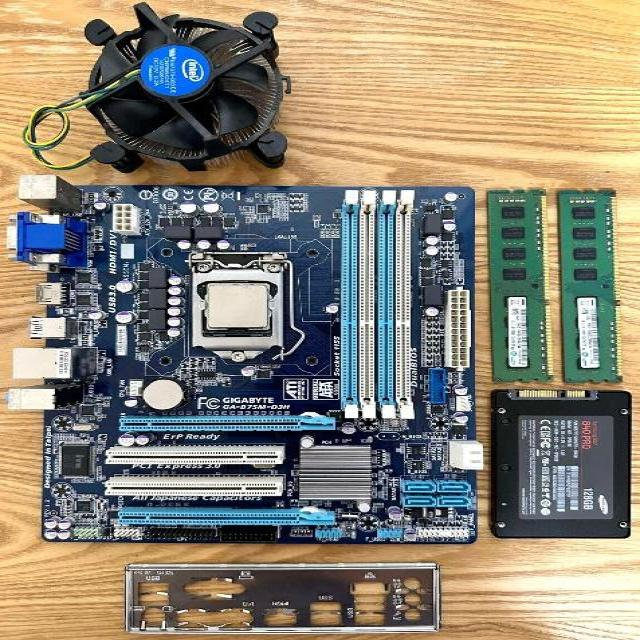CPU: (206, 283, 272, 332)
CPU_Fan: (77, 1, 300, 174)
DISK: (487, 391, 627, 538)
RAM: (558, 190, 624, 381), (487, 190, 550, 382)
